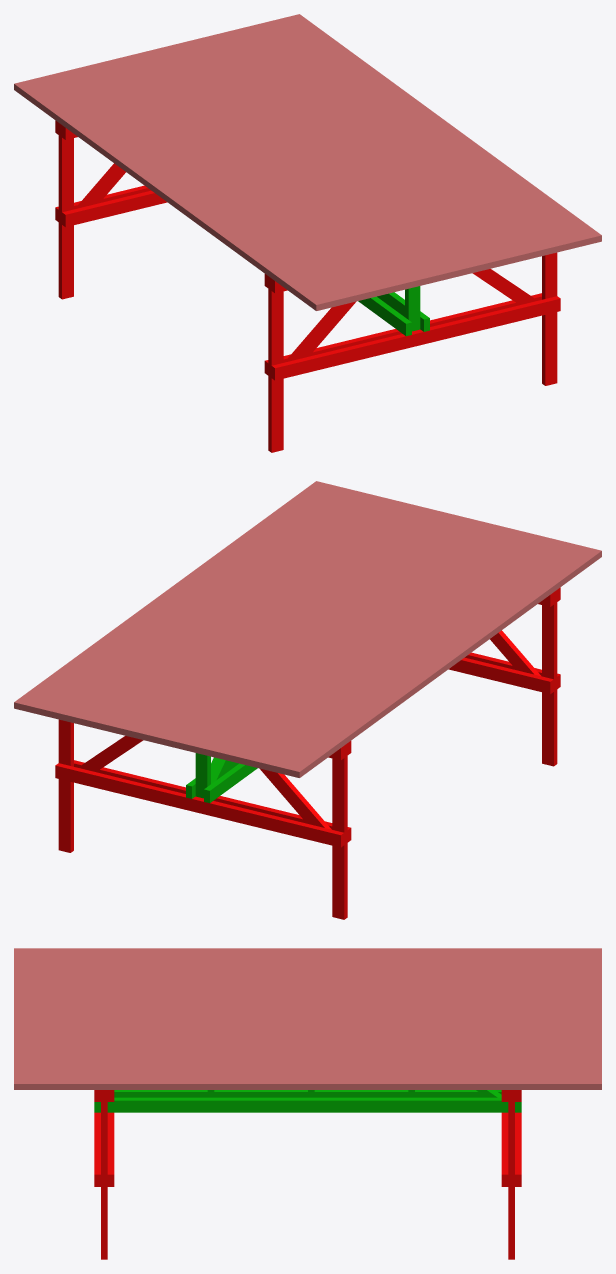
File: result.glb
3 renders of one model, top to bottom at view 1: azimuth 30°, elevation 25°; view 2: azimuth 150°, elevation 25°; view 3: azimuth 270°, elevation 25°, orthographic. The views are drawn at different scales.
Visible parts, largest first — view 1: c17bcb78-49de-47e9-8c04-749eb3c30744__Box, 0de34805-a6fa-40ac-9fda-346588fcdfd0__sideH, 196bce0c-695a-4a6f-a920-b1826b97b199__undefined, 577a40ce-e45b-4e6d-99ef-f7d1e4d9abc7__undefined, 434c1718-3c3a-4b20-b112-d397a5e5844c__undefined, 93145bfd-cb4e-46de-aabc-78930526ea85__undefined, 540c8403-0323-47e9-aa94-0eb159666574__undefined, 9be13702-7a6b-4291-adcc-c5b87ce09a56__undefined, c4cda6d2-de9a-404c-a66a-bd41c8c5ffe0__undefined, f1464e9c-028b-4eb7-bdbd-f88478f7cfdc__undefined, 4ed0d1af-22e9-4b97-9843-f18d6b4936e2__undefined, 97507e08-4cd3-4ad5-a5f4-de3b1a3c35a3__undefined (+23 smaller); view 2: c17bcb78-49de-47e9-8c04-749eb3c30744__Box, c3c76e8c-9b10-4ba8-95a5-a6a509fd3f66__undefined, 196bce0c-695a-4a6f-a920-b1826b97b199__undefined, 577a40ce-e45b-4e6d-99ef-f7d1e4d9abc7__undefined, 434c1718-3c3a-4b20-b112-d397a5e5844c__undefined, 93145bfd-cb4e-46de-aabc-78930526ea85__undefined, 540c8403-0323-47e9-aa94-0eb159666574__undefined, 9be13702-7a6b-4291-adcc-c5b87ce09a56__undefined, c4cda6d2-de9a-404c-a66a-bd41c8c5ffe0__undefined, f1464e9c-028b-4eb7-bdbd-f88478f7cfdc__undefined, 4ed0d1af-22e9-4b97-9843-f18d6b4936e2__undefined, 97507e08-4cd3-4ad5-a5f4-de3b1a3c35a3__undefined (+23 smaller); view 3: 86ae4611-2050-4e62-adc1-5591dc1b77ec__undefined, 9f61939c-170a-4fbf-a4b1-e69e0d6a1d56__strutH, 002ad87e-11bf-4a08-b5ad-00175a2f5e46__undefined, d42fb42f-e24a-4c64-b6a9-e7daf6c7b144__undefined, c4cda6d2-de9a-404c-a66a-bd41c8c5ffe0__undefined, b6a43fdb-10f8-4c33-908b-86ab70feaf7e__undefined, 577a40ce-e45b-4e6d-99ef-f7d1e4d9abc7__undefined, 4ed0d1af-22e9-4b97-9843-f18d6b4936e2__undefined, e45dc6f5-e030-4ef9-ae1c-8f1fba1b24d6__undefined, c17bcb78-49de-47e9-8c04-749eb3c30744__Box, 9e139249-4c16-4280-ae3f-5585daf976e1__undefined, 2525acc2-36ec-49da-8e1c-b45f92d5764b__undefined (+20 smaller).
Part boxes in pixels (x1,y1,x2,y2): c17bcb78-49de-47e9-8c04-749eb3c30744__Box: [14, 81, 328, 310]; 0de34805-a6fa-40ac-9fda-346588fcdfd0__sideH: [271, 296, 560, 380]; 196bce0c-695a-4a6f-a920-b1826b97b199__undefined: [121, 54, 435, 284]; 577a40ce-e45b-4e6d-99ef-f7d1e4d9abc7__undefined: [205, 34, 518, 264]; 434c1718-3c3a-4b20-b112-d397a5e5844c__undefined: [86, 63, 399, 293]; 93145bfd-cb4e-46de-aabc-78930526ea85__undefined: [97, 60, 411, 290]; 540c8403-0323-47e9-aa94-0eb159666574__undefined: [228, 28, 542, 258]; 9be13702-7a6b-4291-adcc-c5b87ce09a56__undefined: [252, 23, 566, 252]; c4cda6d2-de9a-404c-a66a-bd41c8c5ffe0__undefined: [109, 57, 423, 287]; f1464e9c-028b-4eb7-bdbd-f88478f7cfdc__undefined: [217, 31, 530, 261]; 4ed0d1af-22e9-4b97-9843-f18d6b4936e2__undefined: [240, 25, 554, 255]; 97507e08-4cd3-4ad5-a5f4-de3b1a3c35a3__undefined: [133, 52, 447, 281]; c17bcb78-49de-47e9-8c04-749eb3c30744__Box: [287, 548, 601, 777]; c3c76e8c-9b10-4ba8-95a5-a6a509fd3f66__undefined: [55, 763, 344, 847]; 196bce0c-695a-4a6f-a920-b1826b97b199__undefined: [180, 521, 494, 751]; 577a40ce-e45b-4e6d-99ef-f7d1e4d9abc7__undefined: [97, 501, 410, 731]; 434c1718-3c3a-4b20-b112-d397a5e5844c__undefined: [216, 530, 529, 760]; 93145bfd-cb4e-46de-aabc-78930526ea85__undefined: [204, 527, 518, 757]; 540c8403-0323-47e9-aa94-0eb159666574__undefined: [73, 495, 387, 725]; 9be13702-7a6b-4291-adcc-c5b87ce09a56__undefined: [49, 490, 363, 719]; c4cda6d2-de9a-404c-a66a-bd41c8c5ffe0__undefined: [192, 524, 506, 754]; f1464e9c-028b-4eb7-bdbd-f88478f7cfdc__undefined: [85, 498, 398, 728]; 4ed0d1af-22e9-4b97-9843-f18d6b4936e2__undefined: [61, 492, 375, 722]; 97507e08-4cd3-4ad5-a5f4-de3b1a3c35a3__undefined: [168, 519, 482, 748]; 86ae4611-2050-4e62-adc1-5591dc1b77ec__undefined: [14, 1078, 601, 1089]; 9f61939c-170a-4fbf-a4b1-e69e0d6a1d56__strutH: [94, 1097, 521, 1112]; 002ad87e-11bf-4a08-b5ad-00175a2f5e46__undefined: [14, 959, 601, 965]; d42fb42f-e24a-4c64-b6a9-e7daf6c7b144__undefined: [14, 976, 601, 982]; c4cda6d2-de9a-404c-a66a-bd41c8c5ffe0__undefined: [14, 993, 601, 999]; b6a43fdb-10f8-4c33-908b-86ab70feaf7e__undefined: [14, 1010, 601, 1016]; 577a40ce-e45b-4e6d-99ef-f7d1e4d9abc7__undefined: [14, 1038, 601, 1044]; 4ed0d1af-22e9-4b97-9843-f18d6b4936e2__undefined: [14, 1055, 601, 1061]; e45dc6f5-e030-4ef9-ae1c-8f1fba1b24d6__undefined: [14, 1072, 601, 1078]; c17bcb78-49de-47e9-8c04-749eb3c30744__Box: [14, 948, 601, 953]; 9e139249-4c16-4280-ae3f-5585daf976e1__undefined: [14, 954, 601, 959]; 2525acc2-36ec-49da-8e1c-b45f92d5764b__undefined: [14, 965, 601, 970].
Bounding box in the file's own units: 1200 × 725 × 2200.
